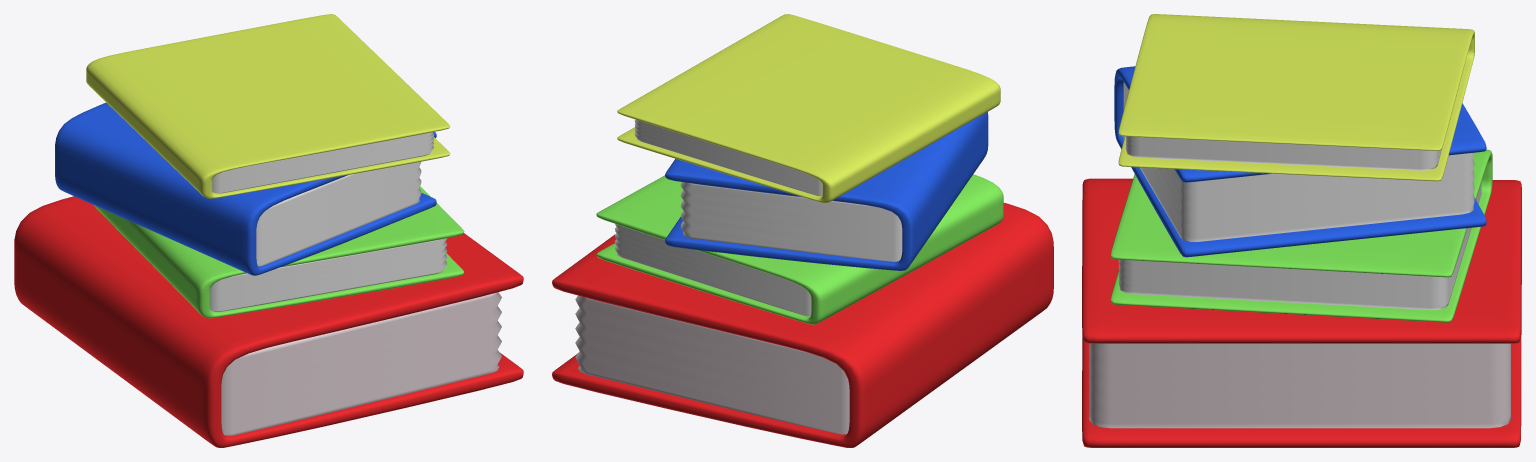
The model's file is kirjapino.fbx.
3 renders of one model, left to right at view 1: azimuth 30°, elevation 25°; view 2: azimuth 150°, elevation 25°; view 3: azimuth 270°, elevation 25°, orthographic. The views are drawn at different scales.
Visible parts, largest first — view 1: kirja, kirja.002, sivut, kirja.003, kirja.001, sivut.003, sivut.001, sivut.002; view 2: kirja, kirja.002, sivut, kirja.001, kirja.003, sivut.003, sivut.001, sivut.002; view 3: kirja.002, sivut, kirja, kirja.001, sivut.003, sivut.001, kirja.003, sivut.002.
Boxes of the visible parts, x1,y1,x2,y2 form: kirja: (14,196,523,447); kirja.002: (86,14,450,198); sivut: (221,292,501,435); kirja.003: (55,102,436,275); kirja.001: (93,186,464,318); sivut.003: (256,162,421,266); sivut.001: (210,238,447,311); sivut.002: (212,132,434,193); kirja: (552,203,1053,447); kirja.002: (617,14,1000,203); sivut: (575,295,849,434); kirja.001: (596,174,1003,324); kirja.003: (665,112,988,270); sivut.003: (680,182,902,261); sivut.001: (615,224,811,316); sivut.002: (634,119,822,196); kirja.002: (1118,14,1474,181); sivut: (1089,343,1510,428); kirja: (1082,178,1521,447); kirja.001: (1110,149,1492,322); sivut.003: (1123,82,1474,241); sivut.001: (1118,182,1481,310); kirja.003: (1114,66,1486,257); sivut.002: (1125,136,1442,170).
Size of the model in its own units: 30.18 by 23.15 by 32.23.
